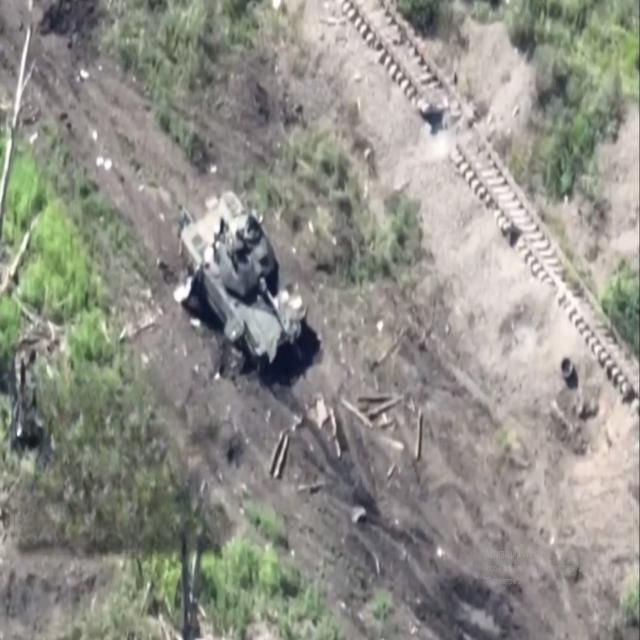AIFV: (183, 180, 308, 380)
